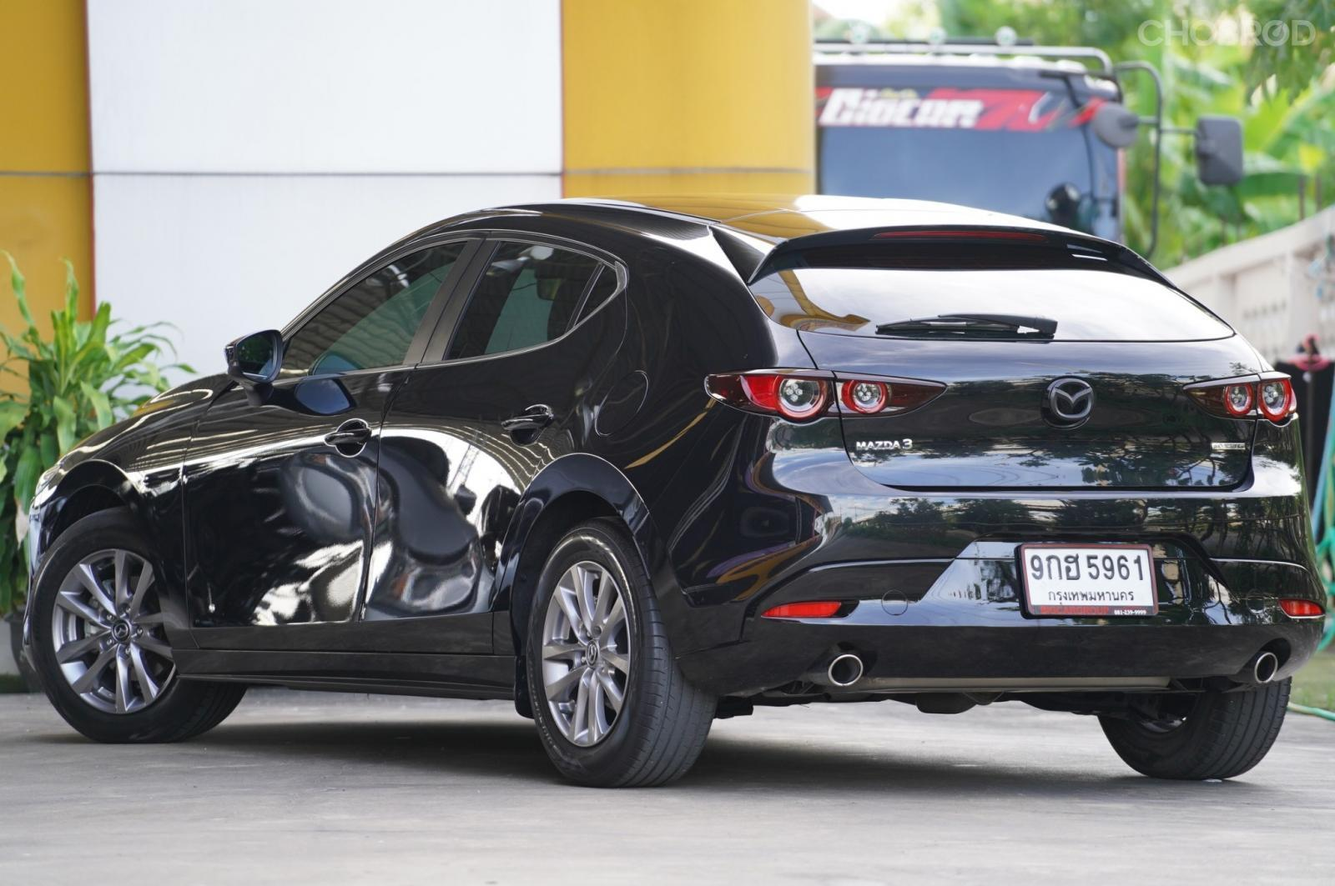license-plate: (1012, 532, 1162, 620)
